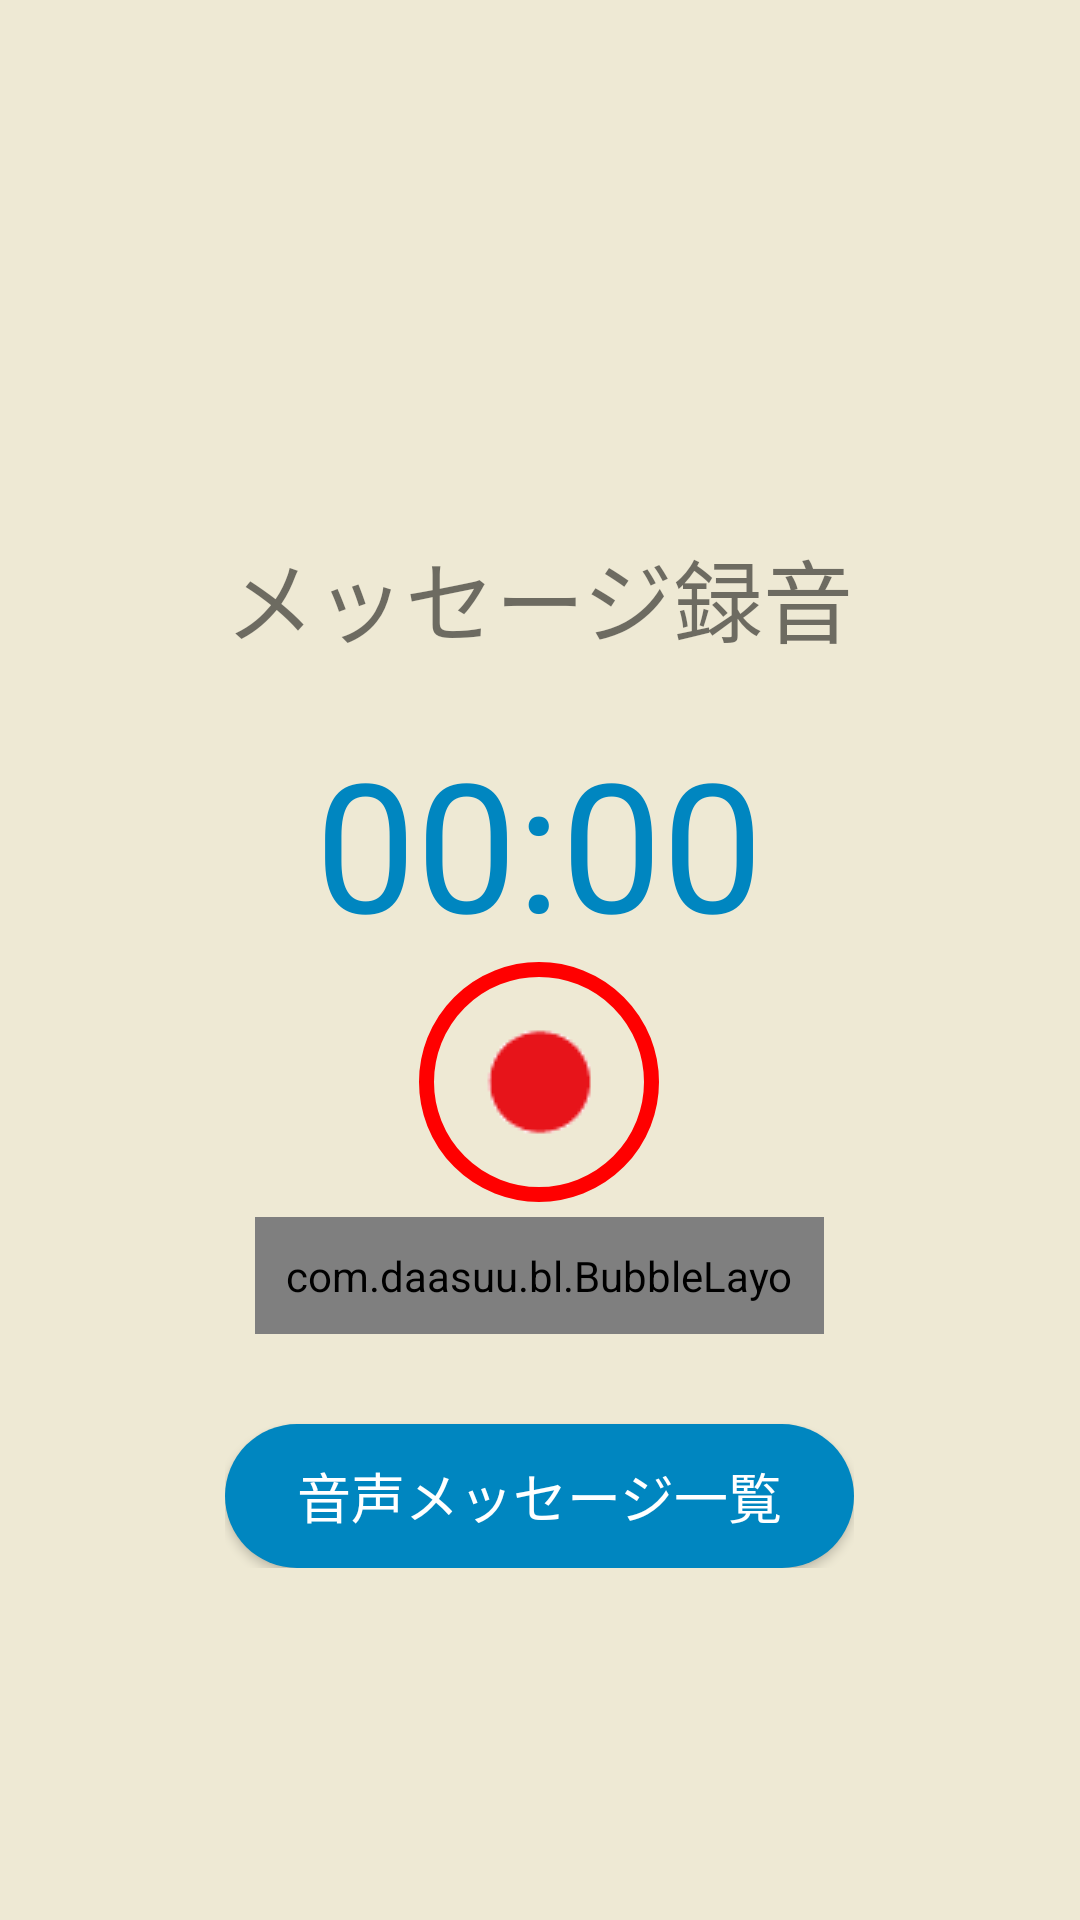

Icons on this 1080w x 1920h Android screen, each with its box as (x1, y1, x2, y2):
rec circle: (419, 962, 659, 1202)
